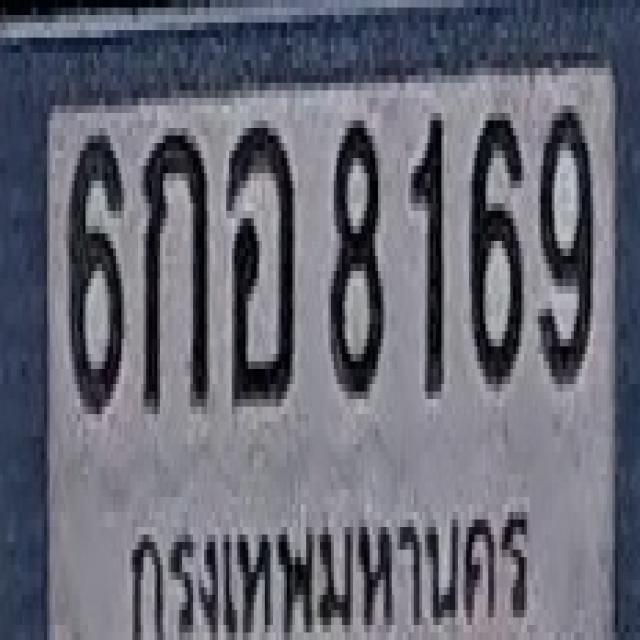1: (410, 113, 442, 391)
6: (68, 128, 122, 407), (469, 105, 521, 384)
8: (330, 113, 382, 391)
9: (539, 102, 592, 380)
A01: (142, 128, 208, 408)
A43: (225, 120, 297, 404)
BKK: (119, 490, 546, 640)
